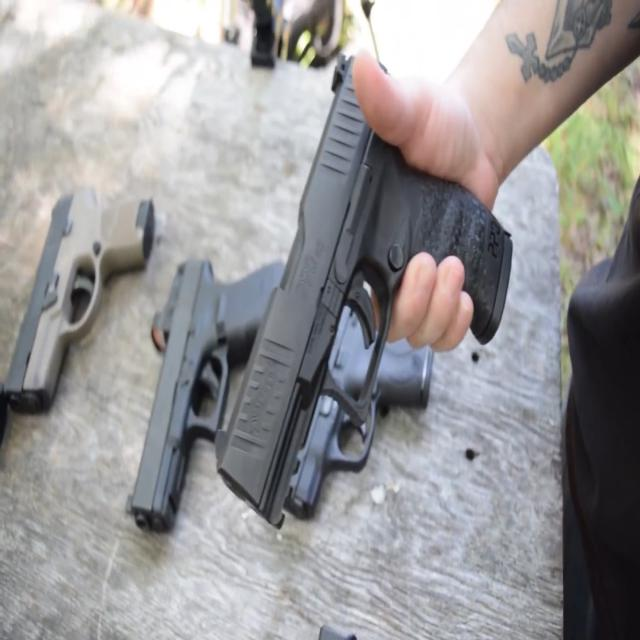handgun: (213, 131, 542, 529), (114, 216, 304, 526), (272, 274, 466, 526), (6, 157, 170, 449)
